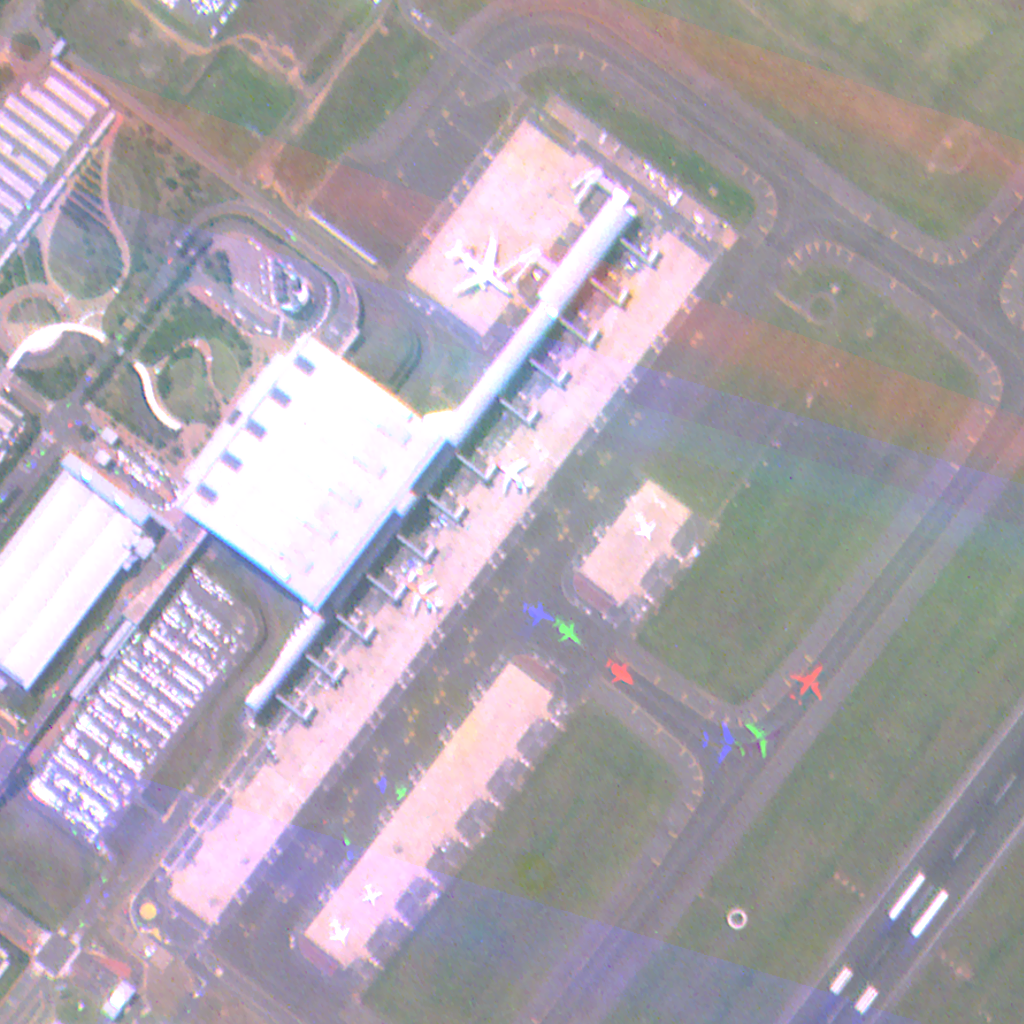plane: (445, 232, 517, 300), (735, 714, 783, 760), (401, 571, 446, 617), (491, 454, 534, 497), (791, 660, 824, 711), (700, 720, 738, 764), (603, 654, 637, 694), (520, 597, 556, 626), (556, 613, 580, 649)
